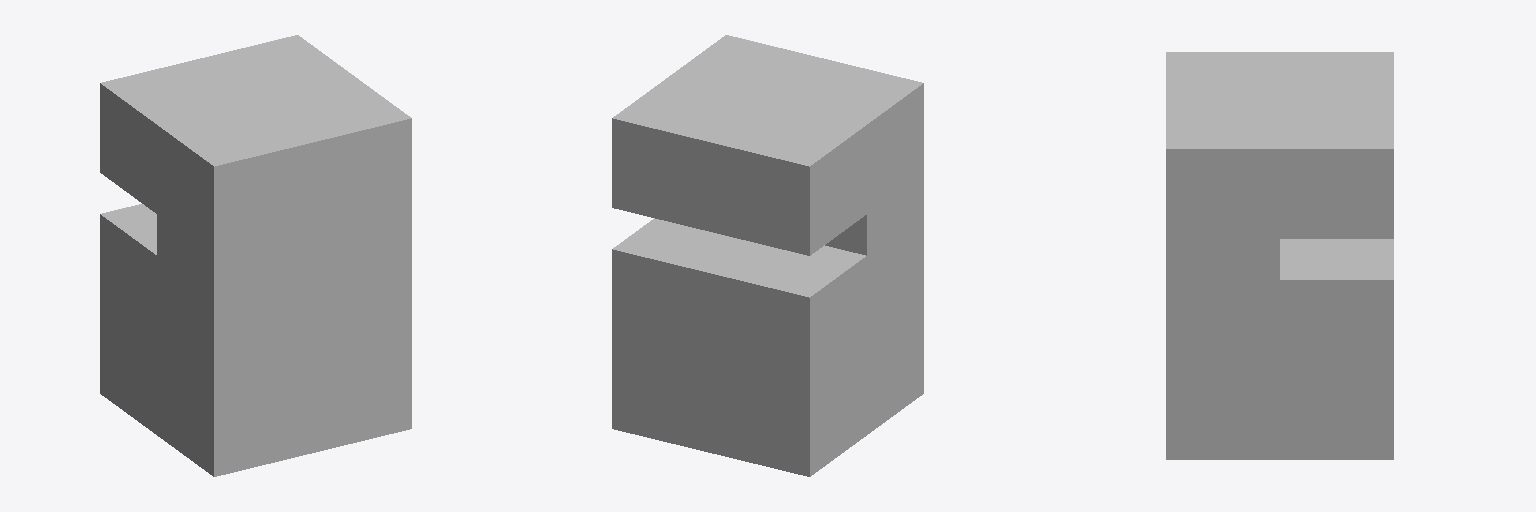
3 renders of one model, left to right at view 1: azimuth 30°, elevation 25°; view 2: azimuth 150°, elevation 25°; view 3: azimuth 270°, elevation 25°, orthographic.
Visible parts, largest first — view 1: Object_To_Grasp_2; view 2: Object_To_Grasp_2; view 3: Object_To_Grasp_2.
Part boxes in pixels (bbox=[...]): Object_To_Grasp_2: bbox=[100, 35, 411, 476]; Object_To_Grasp_2: bbox=[612, 35, 923, 476]; Object_To_Grasp_2: bbox=[1166, 52, 1393, 459].
Bounding box in the file's own units: 0.2 × 0.3 × 0.2.